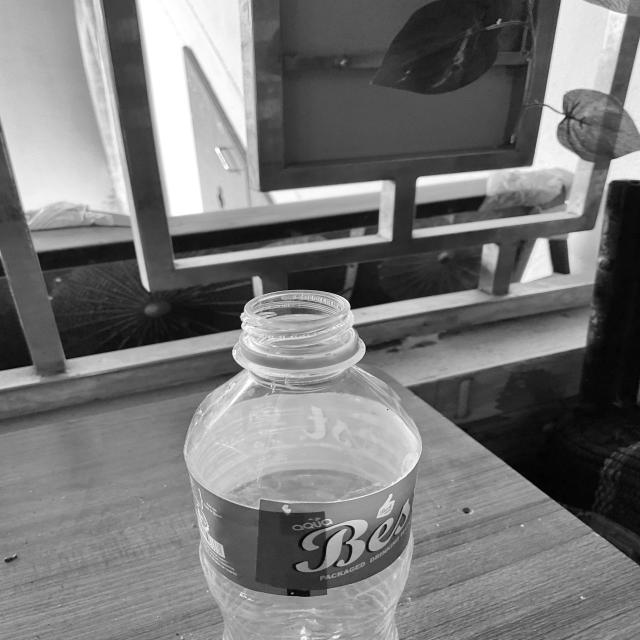open-cap: (238, 289, 354, 355)
